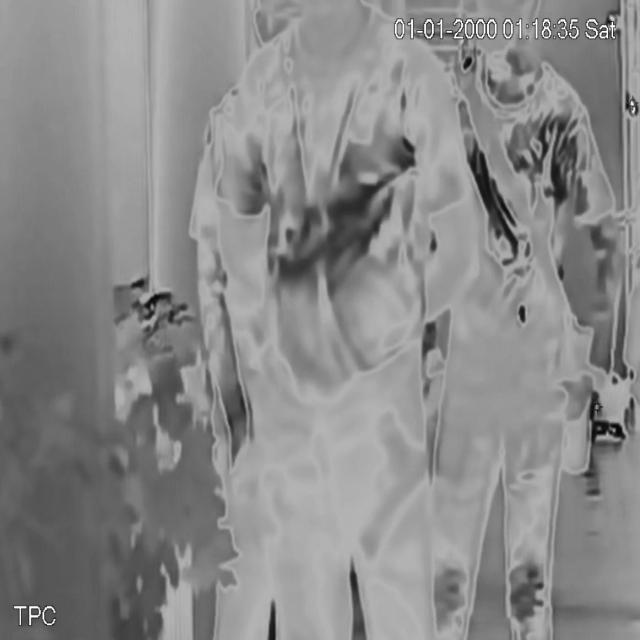Weapon: (344, 413, 442, 564)
